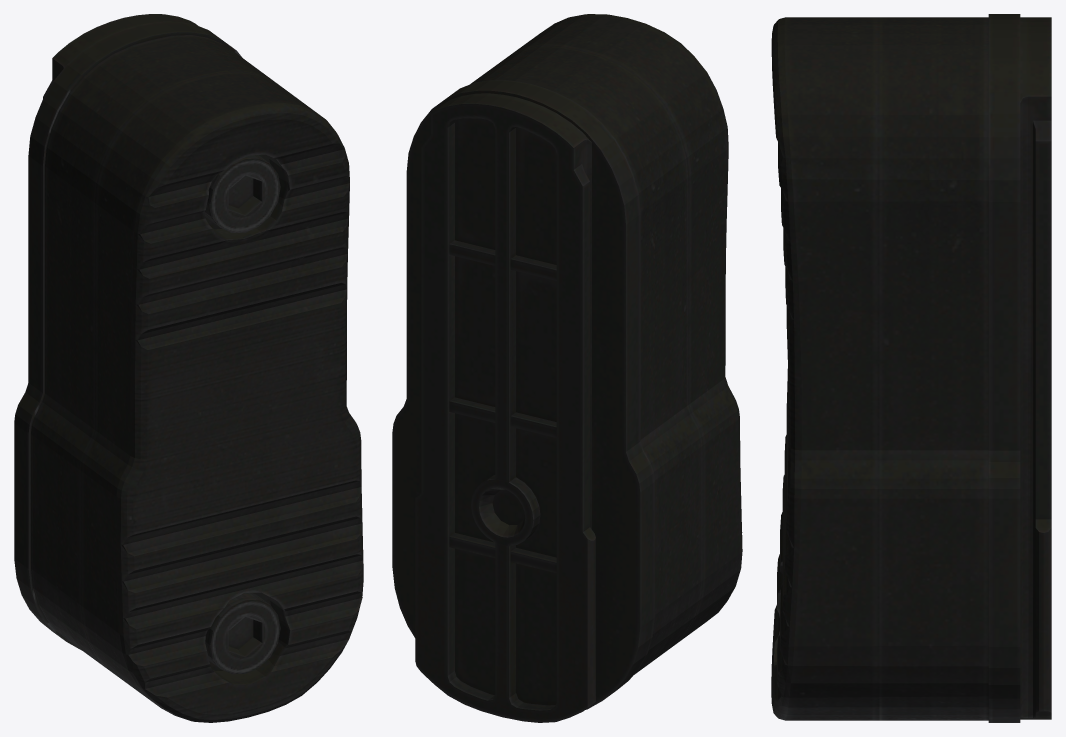
3 renders of one model, left to right at view 1: azimuth 30°, elevation 25°; view 2: azimuth 150°, elevation 25°; view 3: azimuth 270°, elevation 25°, orthographic. The views are drawn at different scales.
Parts seen in each view (by area): view 1: TW_5cc700d4e4a949000f0f0f28_PZ_Import; view 2: TW_5cc700d4e4a949000f0f0f28_PZ_Import; view 3: TW_5cc700d4e4a949000f0f0f28_PZ_Import.
Boxes of the visible parts, x1=… form: TW_5cc700d4e4a949000f0f0f28_PZ_Import: x1=14, y1=14, x2=363, y2=722; TW_5cc700d4e4a949000f0f0f28_PZ_Import: x1=392, y1=14, x2=742, y2=722; TW_5cc700d4e4a949000f0f0f28_PZ_Import: x1=771, y1=14, x2=1051, y2=722.
Size of the model in its own units: 0.0296 by 0.0265 by 0.0701.
1 material, 1 textured.
